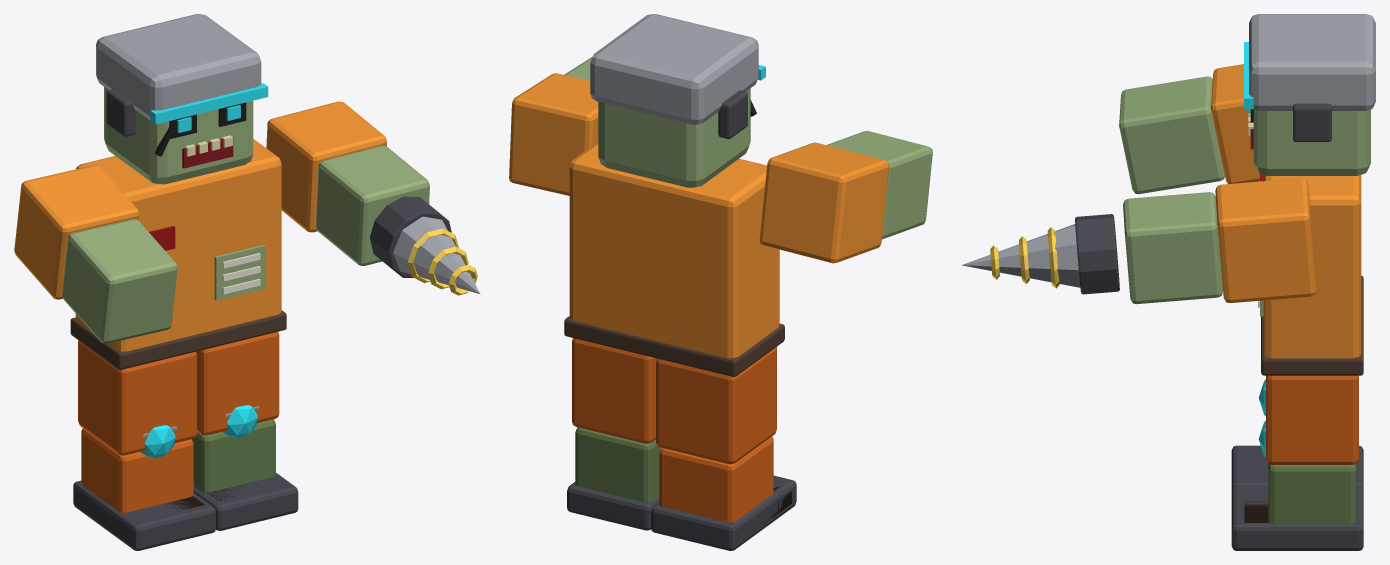
The model's file is zombi_mecanico.obj.
3 renders of one model, left to right at view 1: azimuth 30°, elevation 25°; view 2: azimuth 150°, elevation 25°; view 3: azimuth 270°, elevation 25°, orthographic. The views are drawn at different scales.
Visible parts, largest first — view 1: Torso, Head, RightArm, LeftArm, Cube.022, Cube.025, Cube.023, LeftLeg, Cube.026, RightLeg; view 2: Torso, Head, LeftArm, Cube.022, RightArm, Cube.025, Cube.023, Cube.026, LeftLeg, RightLeg; view 3: RightArm, Head, Torso, LeftArm, Cube.025, Cube.026, RightLeg, LeftLeg, Cube.027.
Part boxes in pixels (bbox=[...]): Torso: bbox=[70, 139, 286, 369]; Head: bbox=[96, 14, 268, 184]; RightArm: bbox=[266, 101, 480, 295]; LeftArm: bbox=[14, 165, 177, 343]; Cube.022: bbox=[78, 340, 196, 455]; Cube.025: bbox=[196, 331, 279, 435]; Cube.023: bbox=[81, 428, 193, 512]; LeftLeg: bbox=[73, 425, 215, 550]; Cube.026: bbox=[192, 419, 275, 492]; RightLeg: bbox=[193, 405, 298, 530]; Torso: bbox=[564, 141, 784, 376]; Head: bbox=[590, 14, 765, 187]; LeftArm: bbox=[759, 130, 932, 263]; Cube.022: bbox=[656, 347, 776, 464]; RightArm: bbox=[509, 57, 598, 195]; Cube.025: bbox=[572, 338, 656, 443]; Cube.023: bbox=[659, 436, 773, 522]; Cube.026: bbox=[575, 427, 660, 502]; LeftLeg: bbox=[651, 475, 796, 550]; RightLeg: bbox=[567, 482, 659, 530]; RightArm: bbox=[961, 178, 1316, 304]; Head: bbox=[1244, 14, 1375, 175]; Torso: bbox=[1258, 174, 1363, 375]; LeftArm: bbox=[1119, 64, 1259, 194]; Cube.025: bbox=[1266, 375, 1358, 464]; Cube.026: bbox=[1268, 464, 1356, 524]; RightLeg: bbox=[1231, 420, 1363, 550]; LeftLeg: bbox=[1231, 379, 1363, 490]; Cube.027: bbox=[1244, 497, 1268, 522].
Bounding box in the file's own units: 4 × 5.34 × 4.24.
4 materials, 1 textured.
